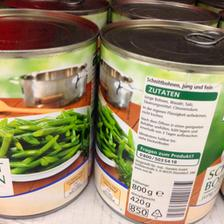Bohnen: (96, 19, 222, 223), (0, 10, 96, 221)
